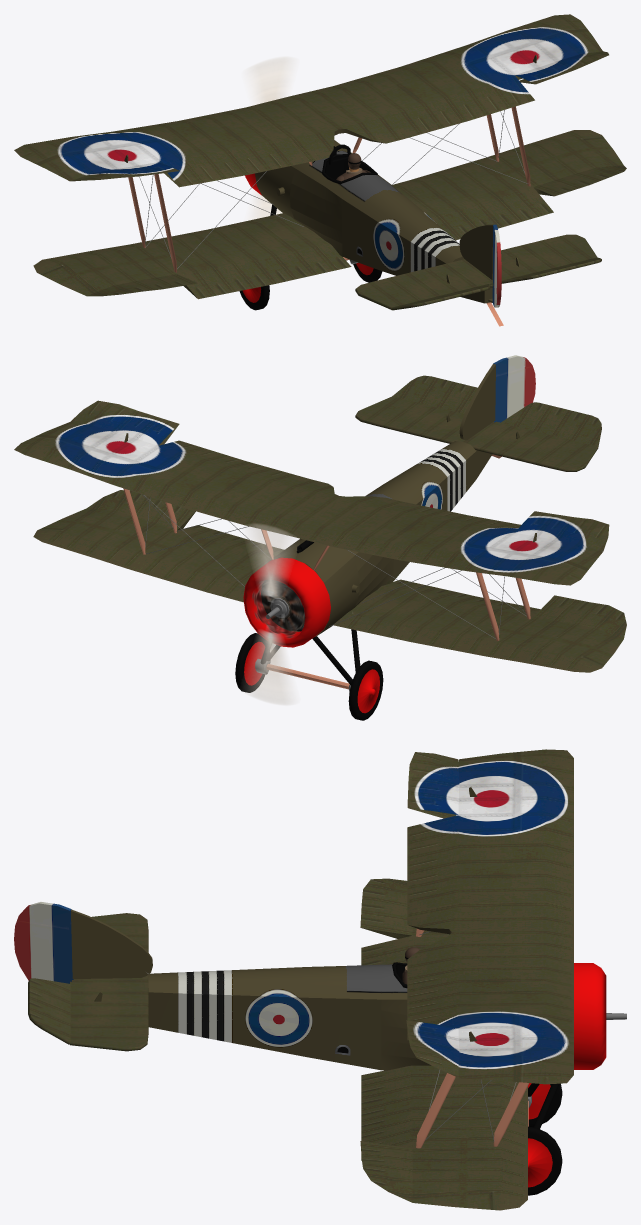
File: pup.glb
3 views of the same model, one above another, from view 1: azimuth 30°, elevation 25°; view 2: azimuth 150°, elevation 25°; view 3: azimuth 270°, elevation 25° (orthographic). The views are drawn at different scales.
Visible parts, largest first — view 1: fuselage, anm_propeller, anm_wingBR, anm_tailHE, anm_wingTR, anm_wingBL, fuselage_wires, anm_wingTL, cockpit, anm_tailVR; view 2: fuselage, anm_propeller, anm_tailHE, anm_wingTR, anm_wingTL, anm_tailVR, anm_wingBL, anm_wingBR, engine, fuselage_wires; view 3: fuselage, anm_tailVR, anm_wingTL, anm_wingBL, anm_wingBR, anm_tailHE, anm_wingTR.
Boxes of the visible parts, <box> form: fuselage: <box>14,14,623,326</box>; anm_propeller: <box>246,57,294,219</box>; anm_wingBR: <box>533,165,626,196</box>; anm_tailHE: <box>392,257,601,310</box>; anm_wingTR: <box>515,51,608,84</box>; anm_wingBL: <box>87,274,197,296</box>; fuselage_wires: <box>139,110,527,268</box>; anm_wingTL: <box>71,162,179,181</box>; cockpit: <box>322,144,377,184</box>; anm_tailVR: <box>492,224,501,307</box>; fuselage: <box>14,364,623,720</box>; anm_propeller: <box>245,524,294,704</box>; anm_tailHE: <box>392,375,601,446</box>; anm_wingTR: <box>70,400,179,445</box>; anm_wingTL: <box>515,511,609,551</box>; anm_tailVR: <box>493,355,535,422</box>; anm_wingBL: <box>533,595,626,639</box>; anm_wingBR: <box>87,490,195,530</box>; engine: <box>252,581,304,638</box>; fuselage_wires: <box>142,494,526,638</box>; fuselage: <box>70,749,626,1210</box>; anm_tailVR: <box>14,902,73,983</box>; anm_wingTL: <box>407,752,459,818</box>; anm_wingBL: <box>360,878,412,938</box>; anm_wingBR: <box>360,1141,412,1202</box>; anm_tailHE: <box>28,978,70,1044</box>; anm_wingTR: <box>406,1020,459,1077</box>.
Size of the model in its own units: 8.15 by 2.9 by 6.25.
Materials: 12 (3 with a texture image).
